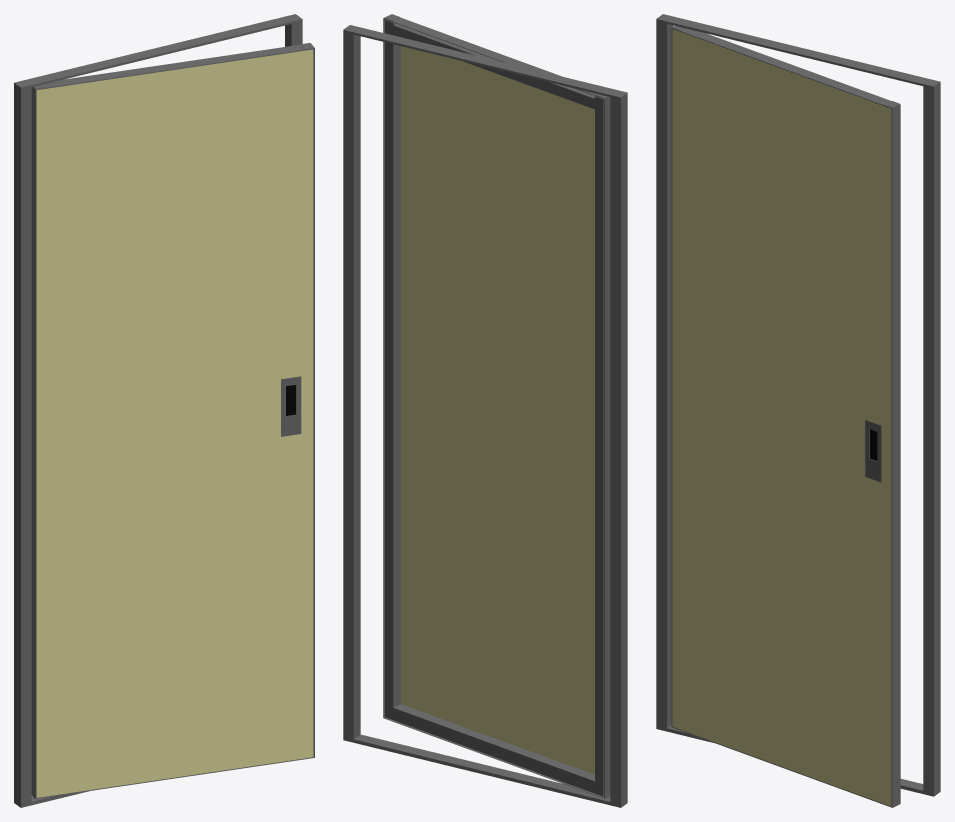
The model's file is Door Full Panel.glb.
3 views of the same model, side by side, from view 1: azimuth 30°, elevation 25°; view 2: azimuth 150°, elevation 25°; view 3: azimuth 330°, elevation 25° (orthographic).
Parts seen in each view (by area): view 1: Door Full Panel; view 2: Door Full Panel; view 3: Door Full Panel.
Boxes of the visible parts, bbox=[...] form: Door Full Panel: bbox=[14, 14, 314, 807]; Door Full Panel: bbox=[343, 14, 627, 807]; Door Full Panel: bbox=[656, 14, 940, 807].
Size of the model in its own units: 0.9664 by 2.36 by 0.2027.
